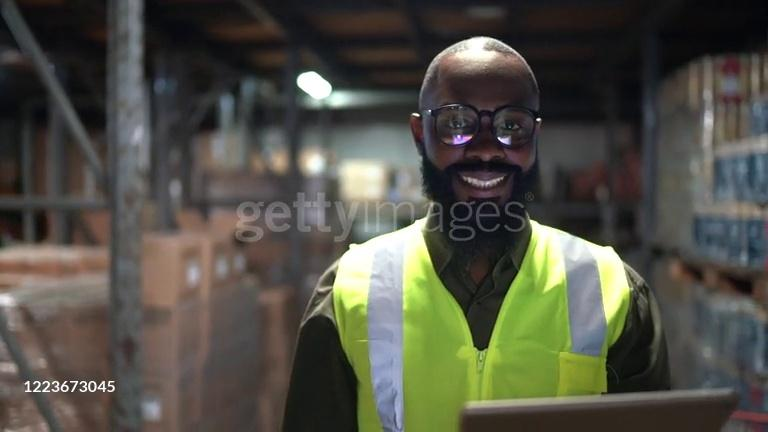person: (281, 37, 676, 432)
